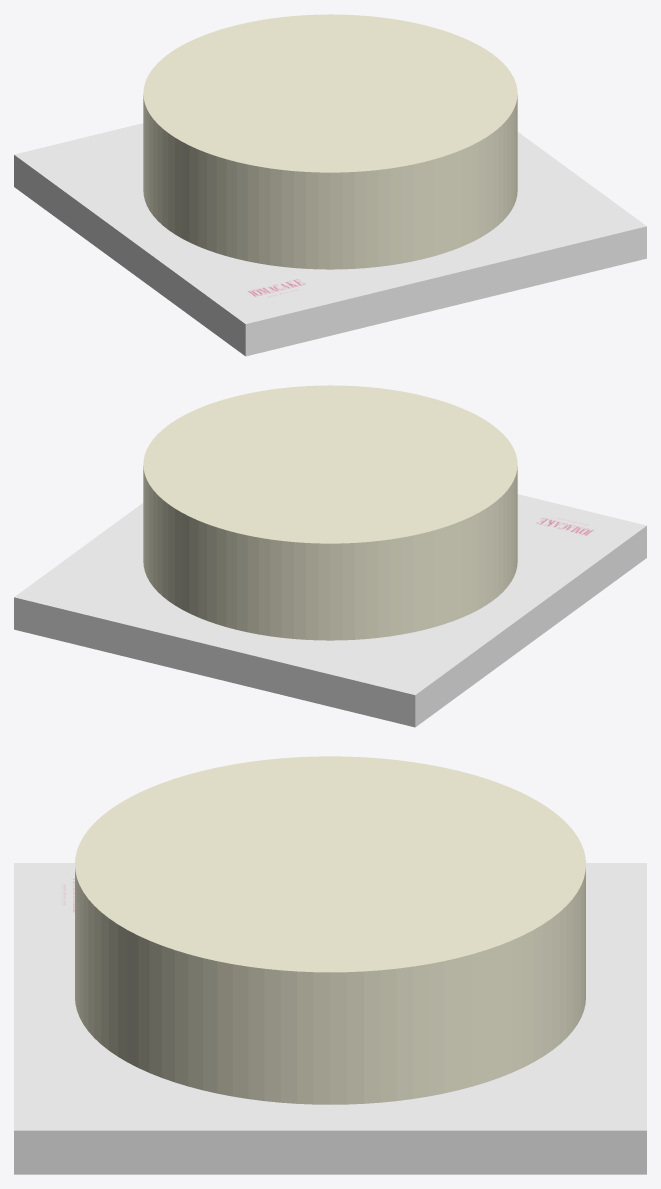
The model's file is cake_8in_layers2_v33.glb.
3 renders of one model, top to bottom at view 1: azimuth 30°, elevation 25°; view 2: azimuth 150°, elevation 25°; view 3: azimuth 270°, elevation 25°, orthographic. The views are drawn at different scales.
Visible parts, largest first — view 1: Cake, Board, Logo; view 2: Cake, Board, Logo; view 3: Cake, Board, Logo.
Boxes of the visible parts, bbox=[...] form: Cake: bbox=[143, 14, 517, 269]; Board: bbox=[14, 123, 646, 356]; Logo: bbox=[237, 275, 319, 304]; Cake: bbox=[143, 385, 517, 640]; Board: bbox=[14, 494, 646, 727]; Logo: bbox=[526, 510, 608, 539]; Cake: bbox=[75, 756, 585, 1104]; Board: bbox=[14, 863, 646, 1174]; Logo: bbox=[52, 874, 74, 916].
Size of the model in its own units: 0.26 by 0.08 by 0.26.
